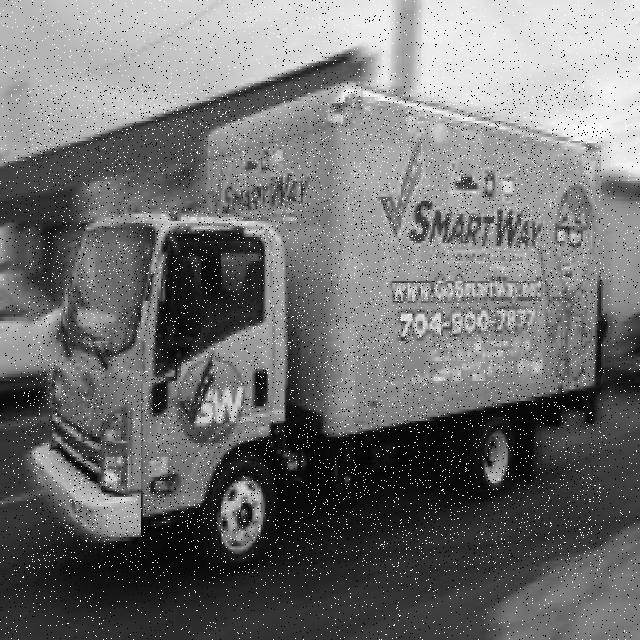Box Truck: (26, 85, 604, 574)
